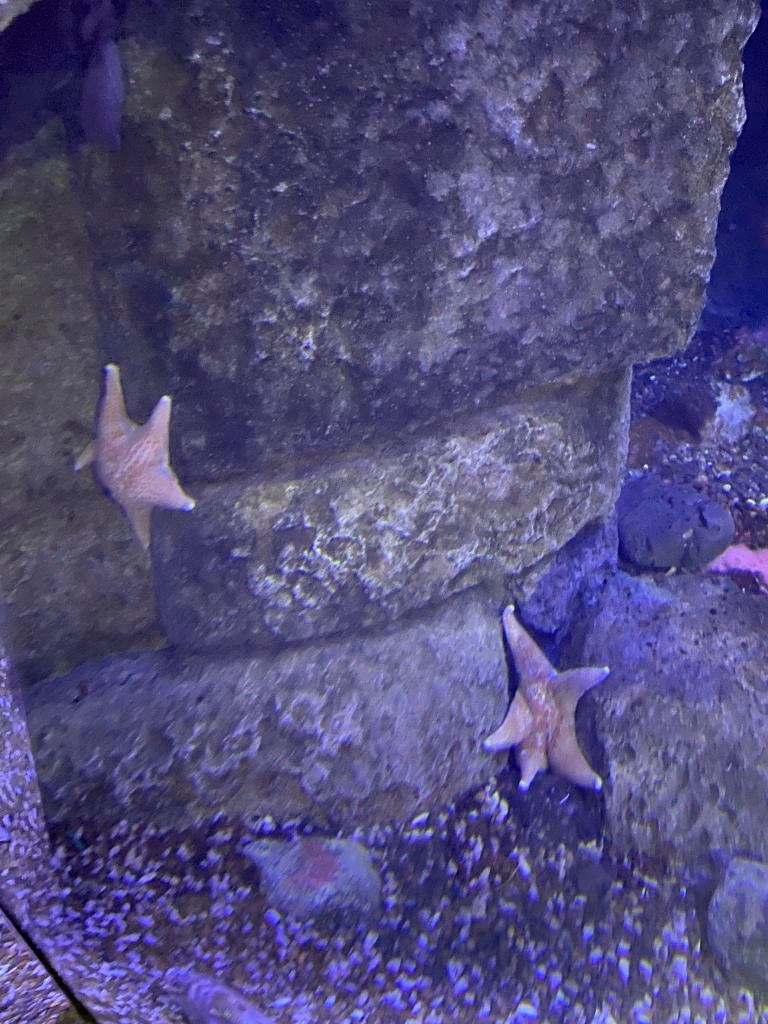starfish: (72, 364, 195, 554), (484, 606, 608, 792)
